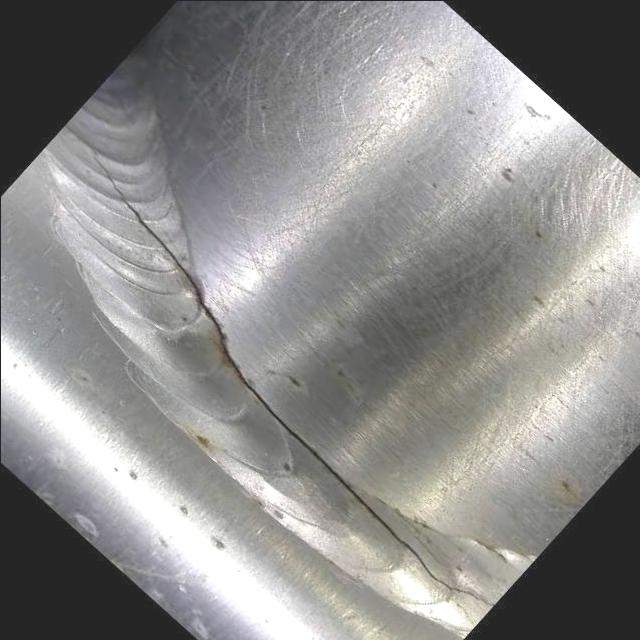defect: (83, 139, 493, 608)
